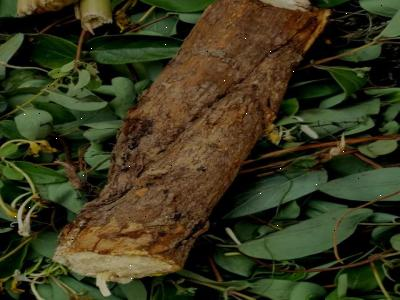Root: (53, 0, 330, 294)
